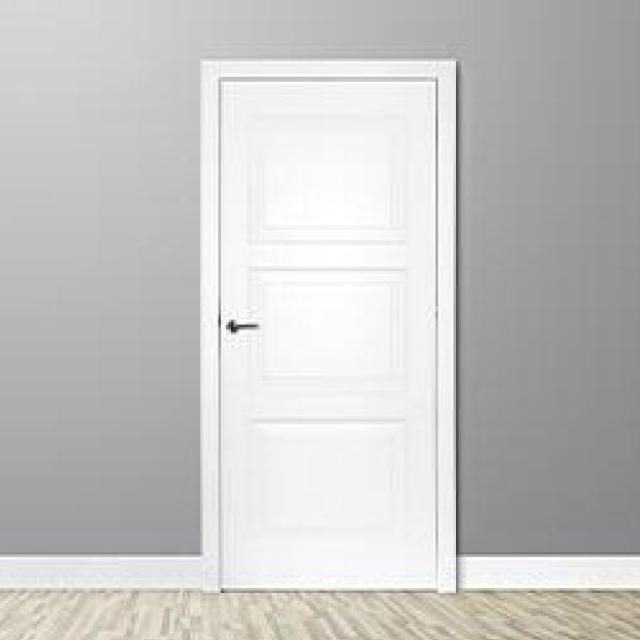door: (211, 59, 452, 593)
